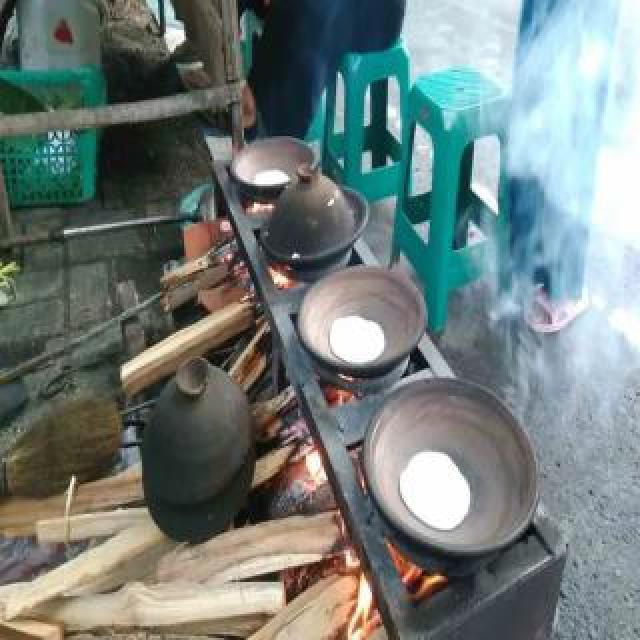Fire: (342, 558, 376, 638), (268, 256, 296, 304), (304, 444, 328, 498), (248, 198, 272, 218)
Smoke: (458, 2, 636, 482)
